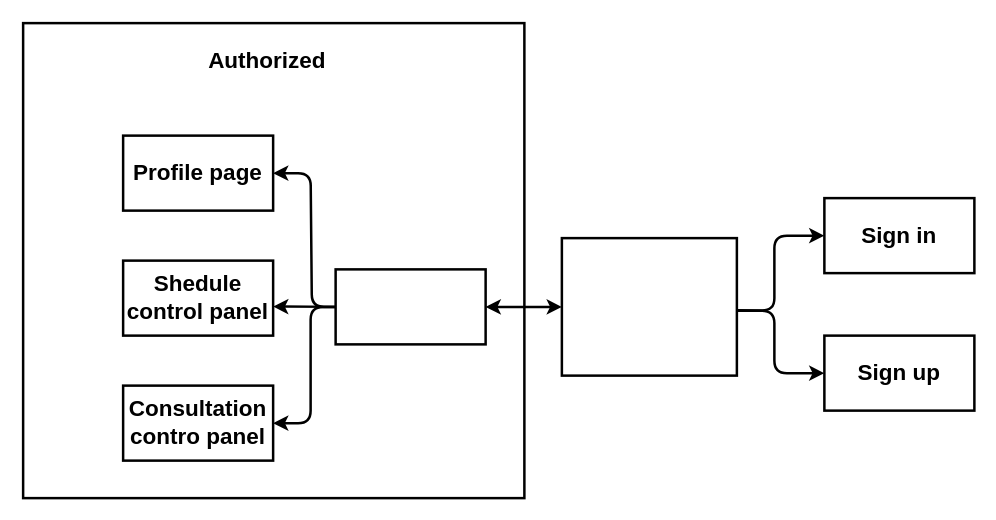
The diagram is 996 pixels wide and 520 high, and some of its shapes have lost their labels. Each missing label, with the centre of its shape:
"Block control panel" goes at point 410,306.
"Main page about the project, contact, github, telegram" goes at point 649,306.
